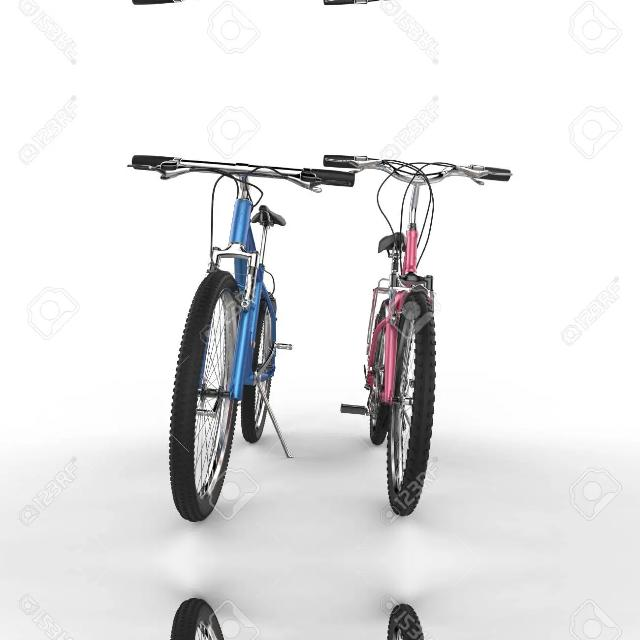obstacle: (124, 134, 346, 538), (321, 126, 507, 526), (123, 582, 346, 640), (321, 593, 507, 640), (321, 0, 507, 34), (123, 0, 346, 26)
